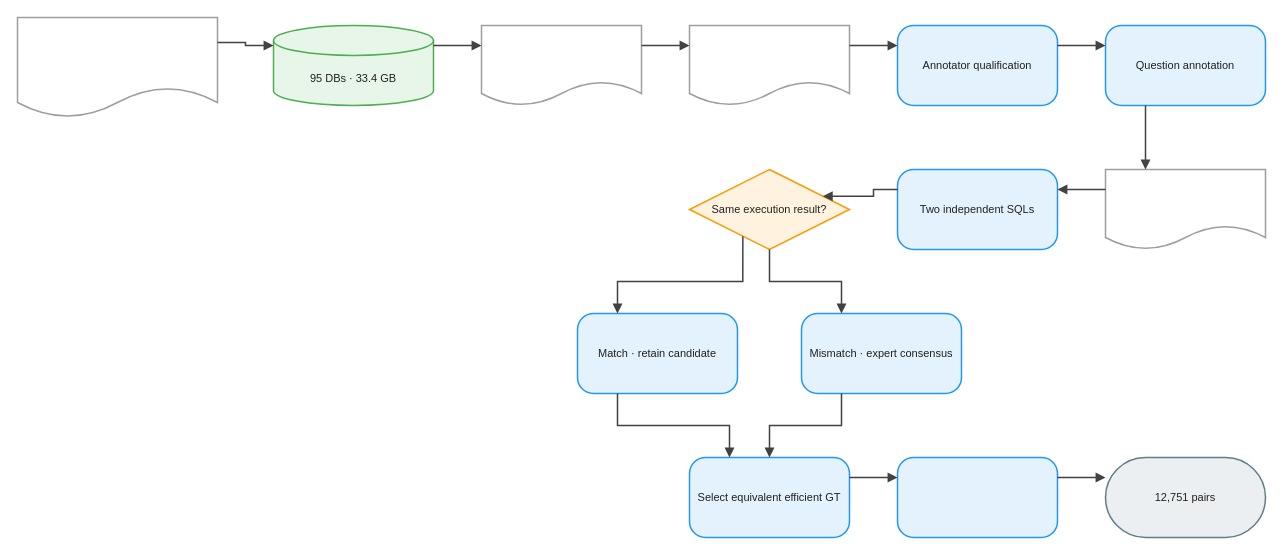
Some shapes in this 1284 by 556 pixel diagram are drawn without their labels. The shapes that lost their labels are listed below. From the top down, each one's centre as x and y in pixels, then its label:
pixel 117 67: Kaggle · Relation.vit · open tables
pixel 561 65: 37 domains · 69 / 11 / 15
pixel 769 65: Schema + descriptions + ER
pixel 1185 209: External-knowledge evidence
pixel 977 497: Validity + alignment review
